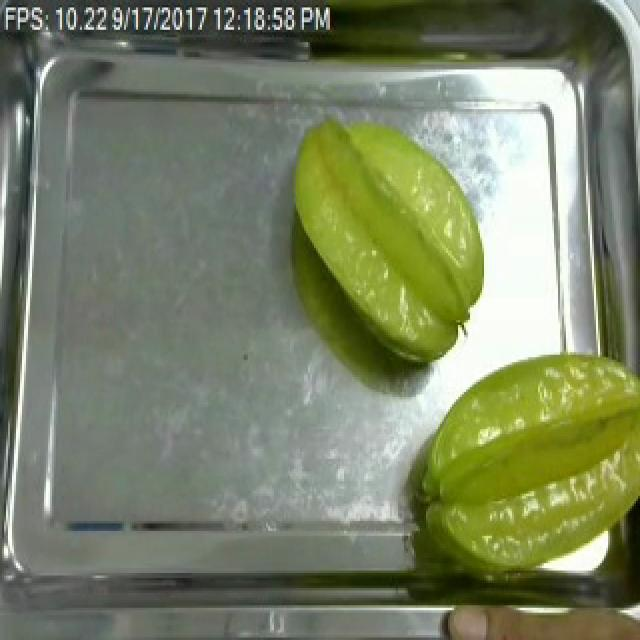fruit: (408, 340, 640, 593), (280, 107, 494, 377)
